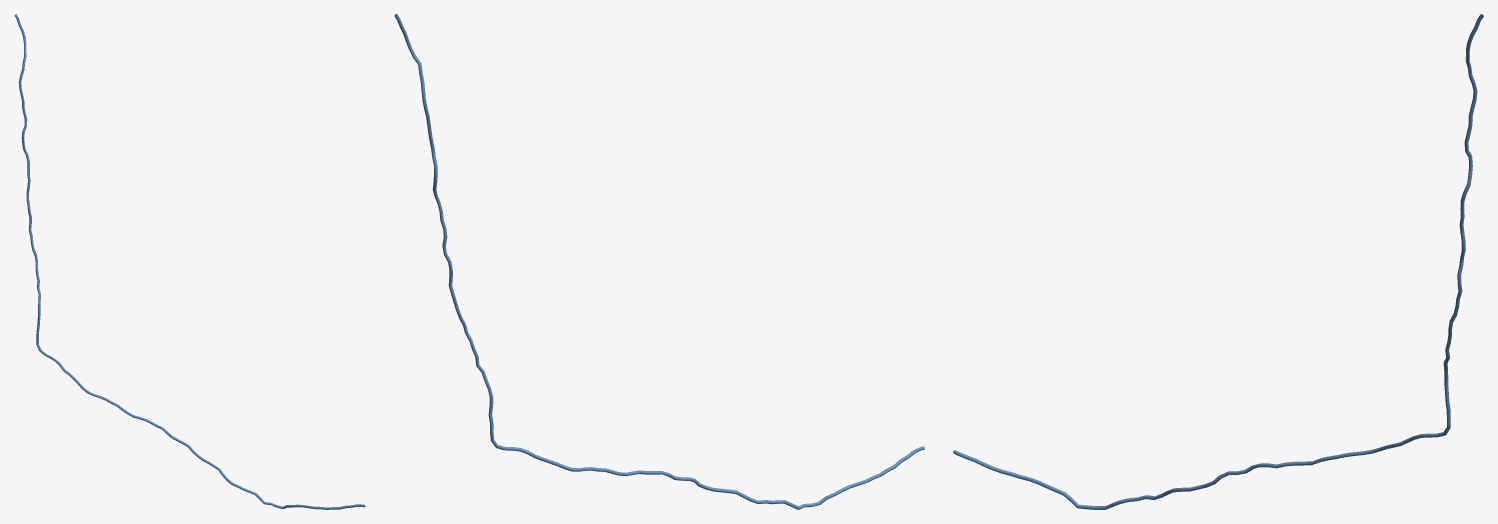
The model's file is sweep177.fbx.
The picture shows the model from 3 angles, left to right: view 1: azimuth 90°, elevation 25°; view 2: azimuth 150°, elevation 25°; view 3: azimuth 270°, elevation 25°; orthographic projection. The views are drawn at different scales.
Visible parts, largest first — view 1: sweep177; view 2: sweep177; view 3: sweep177.
Boxes of the visible parts, x1,y1,x2,y2 form: sweep177: [14, 14, 365, 509]; sweep177: [394, 14, 924, 509]; sweep177: [953, 14, 1483, 509].
Size of the model in its own units: 1.82 by 3.4 by 2.63.
